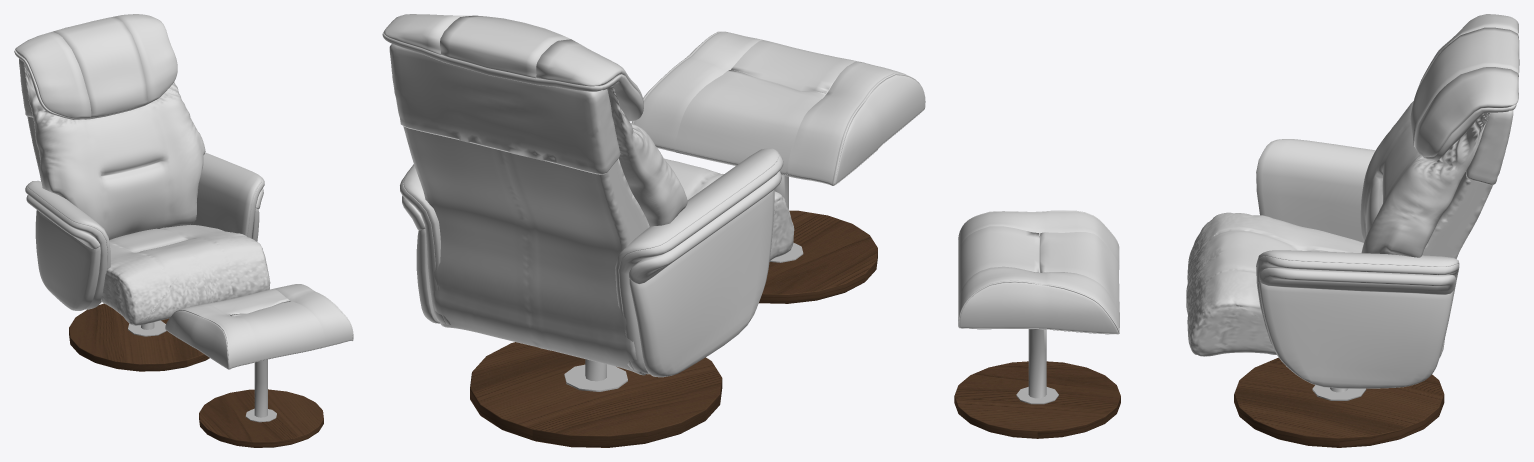
The model's file is SBH_MOSS.glb.
3 views of the same model, side by side, from view 1: azimuth 30°, elevation 25°; view 2: azimuth 150°, elevation 25°; view 3: azimuth 270°, elevation 25° (orthographic). The views are drawn at different scales.
Visible parts, largest first — view 1: MOSS; view 2: MOSS; view 3: MOSS.
Part boxes in pixels (x1,y1,x2,y2): MOSS: (14,14,353,447); MOSS: (382,14,925,447); MOSS: (954,14,1519,447).
Bounding box in the file's own units: 0.8044 × 1.09 × 1.55.
4 materials, 1 textured.
